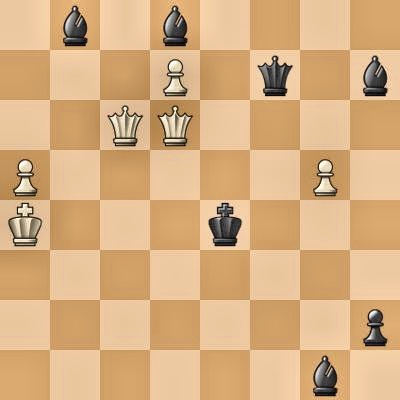black-bishop: (50, 0, 100, 50), (150, 0, 200, 50), (350, 50, 400, 100), (300, 350, 350, 400)
black-king: (200, 200, 250, 250)
black-pawn: (350, 300, 400, 350)
black-queen: (250, 50, 300, 100)
white-king: (0, 200, 50, 250)
white-pawn: (150, 50, 200, 100), (0, 150, 50, 200), (300, 150, 350, 200)
white-queen: (100, 100, 150, 150), (150, 100, 200, 150)
